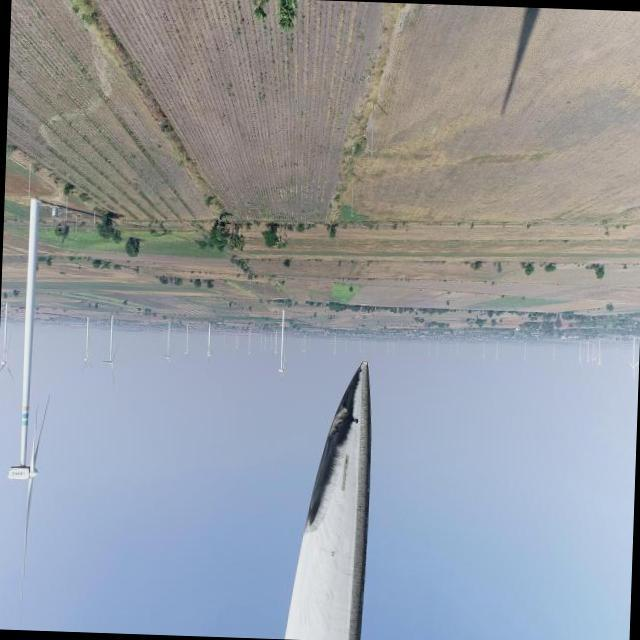Dirt: (285, 362, 372, 640)
Oil LEAKAGE: (305, 363, 363, 525)
Pin Hole: (340, 412, 359, 428)
